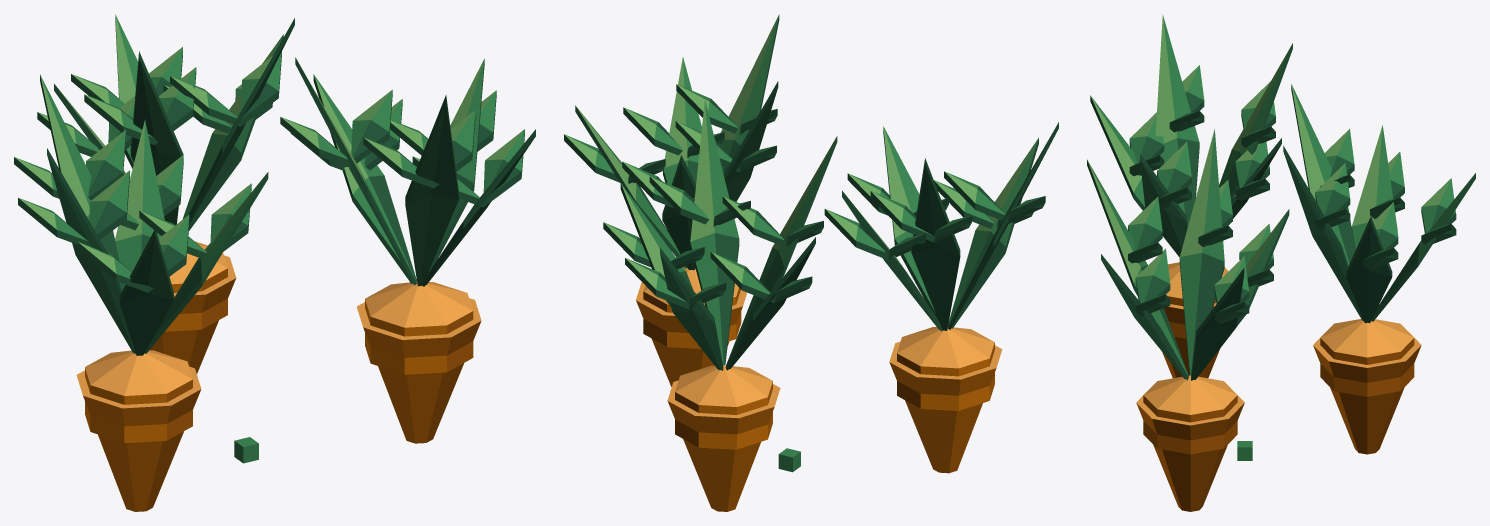
File: carrot_stage_03.fbx
3 views of the same model, side by side, from view 1: azimuth 30°, elevation 25°; view 2: azimuth 150°, elevation 25°; view 3: azimuth 270°, elevation 25° (orthographic). The views are drawn at different scales.
Visible parts, largest first — view 1: carrot_stage_03__Foliage; view 2: carrot_stage_03__Foliage; view 3: carrot_stage_03__Foliage.
Boxes of the visible parts, x1,y1,x2,y2 form: carrot_stage_03__Foliage: (14,14,535,511); carrot_stage_03__Foliage: (564,14,1058,511); carrot_stage_03__Foliage: (1087,14,1475,511).
Bounding box in the file's own units: 1.3 × 0.9992 × 1.03.
Materials: 1 (1 with a texture image).
